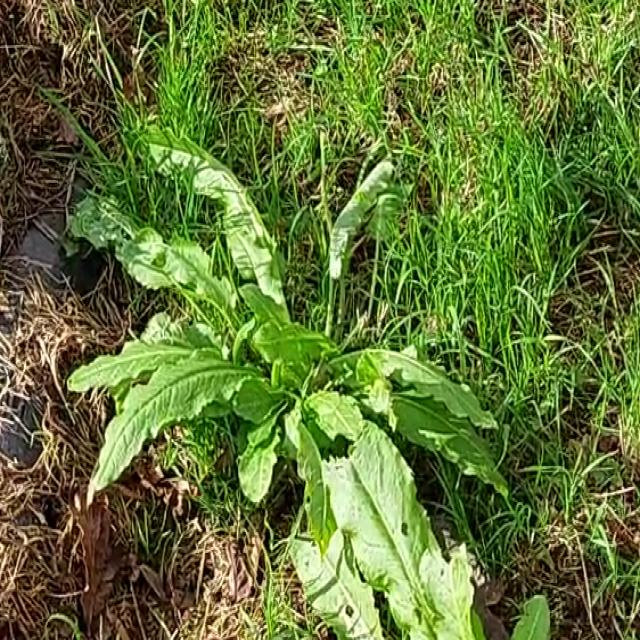organic waste: (74, 117, 525, 611)
